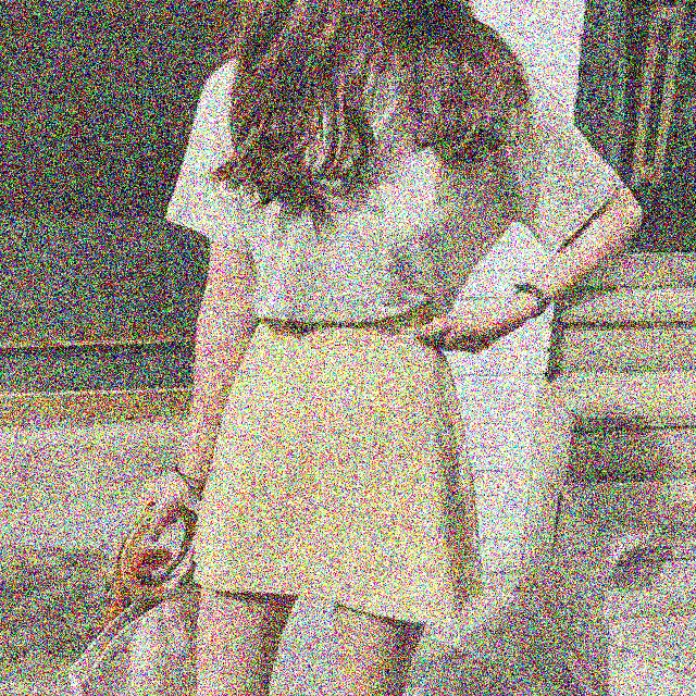Miniskirt: (190, 310, 487, 696)
